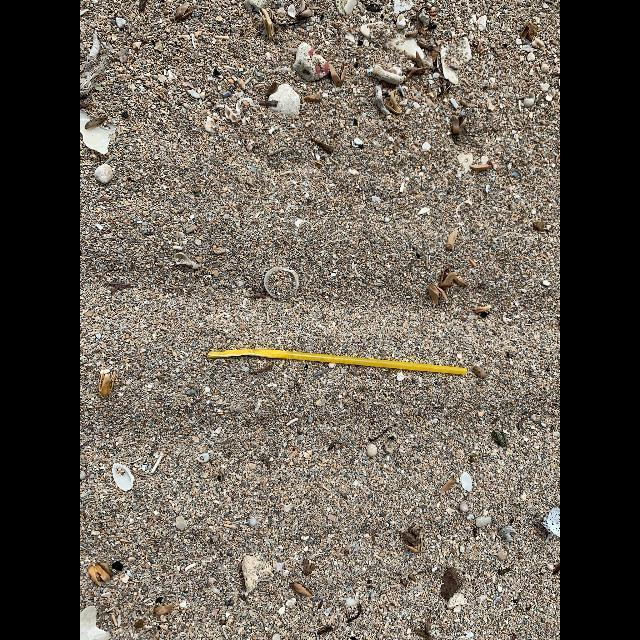Plastic: (207, 350, 467, 374)
